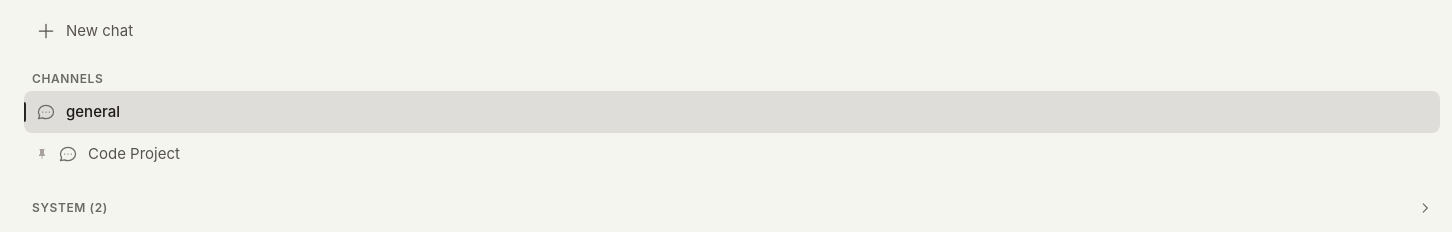
rename flow › pre-fills input with displayName when set
Right-click the button "Code Project" at (134, 154), box [24, 133, 1440, 176]
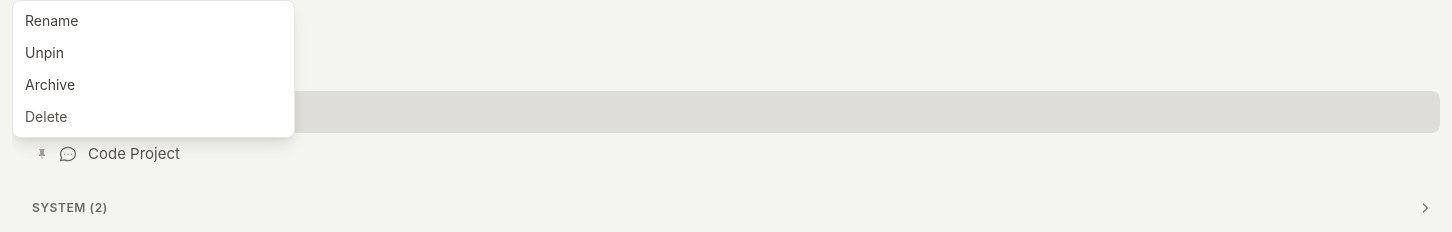
Click the button "Rename" at (52, 20), box [13, 5, 294, 37]
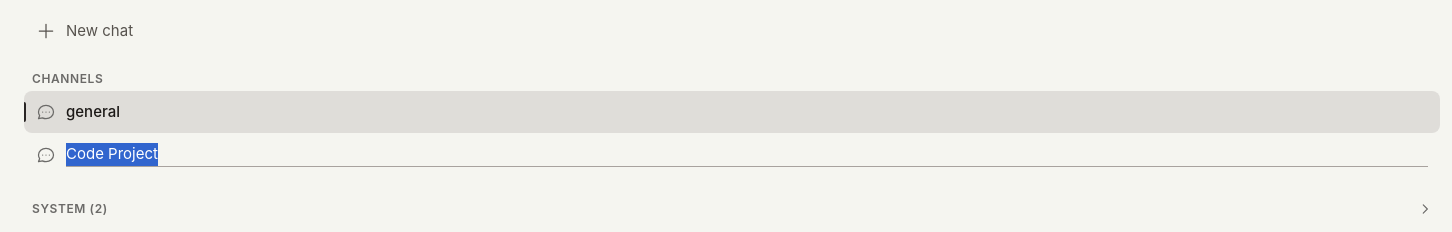
Expected: the field holds "Code Project", [66, 143, 1428, 166]
